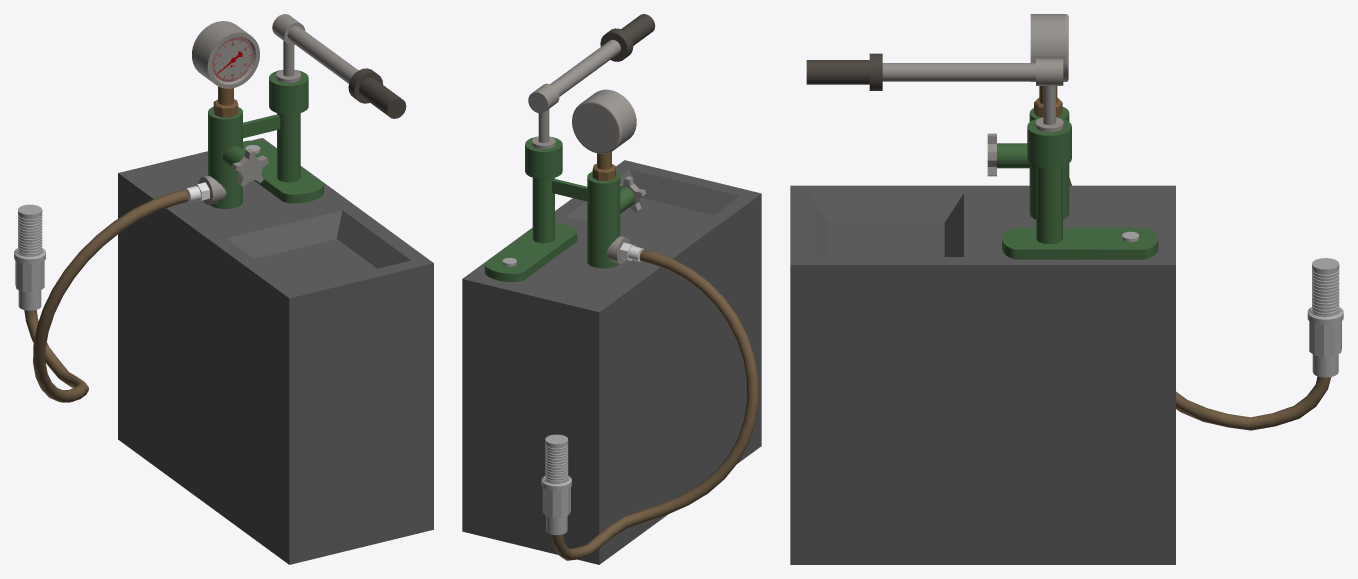
The model's file is 试压泵.fbx.
The picture shows the model from 3 angles, left to right: view 1: azimuth 30°, elevation 25°; view 2: azimuth 150°, elevation 25°; view 3: azimuth 270°, elevation 25°; orthographic projection. The views are drawn at different scales.
Parts seen in each view (by area): view 1: jj_shiyabeng; view 2: jj_shiyabeng; view 3: jj_shiyabeng.
Part boxes in pixels (box(x1,y1,x2,y2)): jj_shiyabeng: box(14, 14, 433, 564); jj_shiyabeng: box(462, 14, 761, 564); jj_shiyabeng: box(790, 14, 1343, 564).
Size of the model in its own units: 89.25 by 140 by 142.
